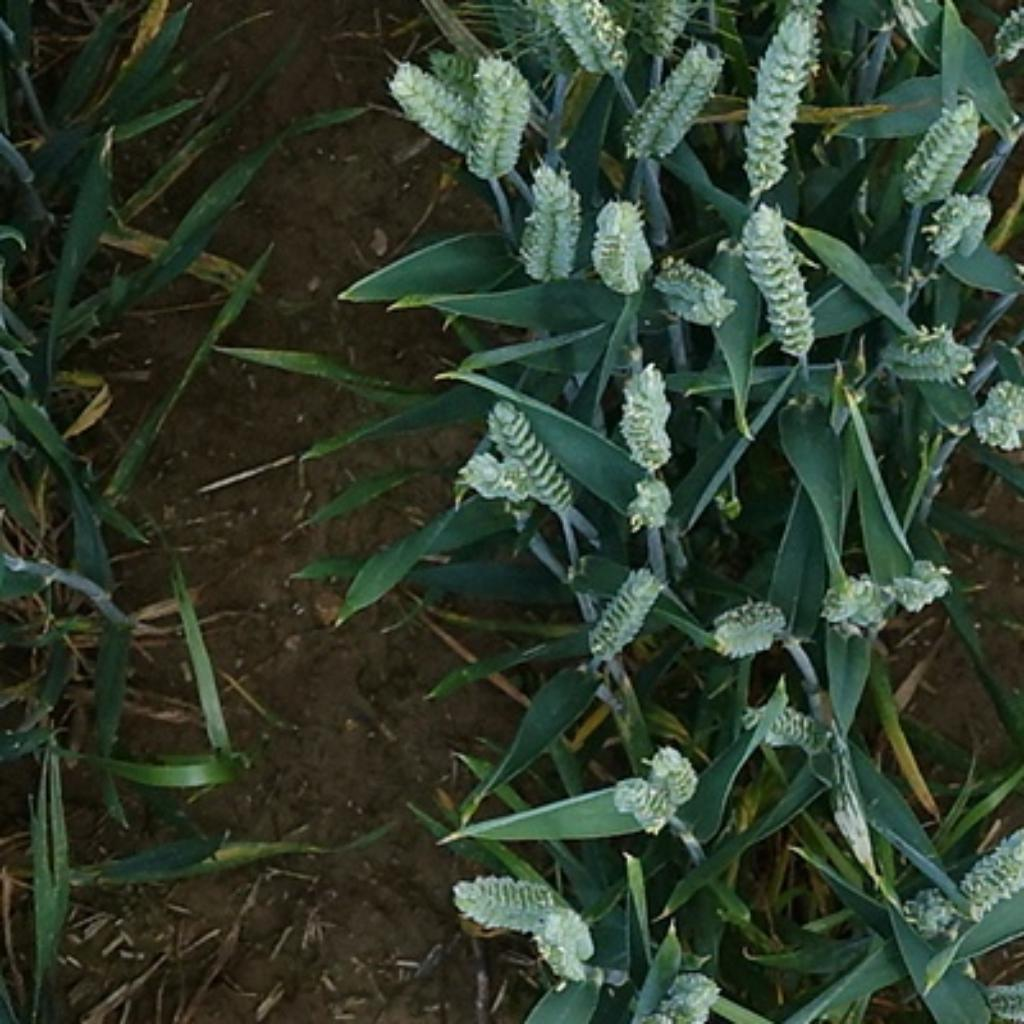0-0: (732, 189, 826, 363), (747, 7, 819, 189), (622, 43, 721, 158), (486, 399, 576, 523), (460, 40, 532, 181), (583, 559, 673, 666), (893, 94, 985, 197), (939, 814, 1024, 919), (387, 59, 476, 154), (872, 314, 977, 391), (514, 162, 580, 284), (455, 442, 550, 524), (447, 867, 568, 931), (586, 184, 652, 294), (615, 360, 678, 468), (523, 895, 605, 977), (704, 588, 793, 660), (647, 245, 729, 322), (916, 184, 995, 261), (747, 693, 826, 762), (605, 772, 682, 839), (556, 1, 622, 78), (892, 883, 973, 941), (818, 578, 892, 638), (639, 971, 723, 1023), (883, 555, 954, 616), (619, 465, 680, 529), (974, 378, 1024, 455), (646, 744, 707, 807), (637, 2, 693, 66), (524, 6, 575, 65), (985, 7, 1024, 62)
